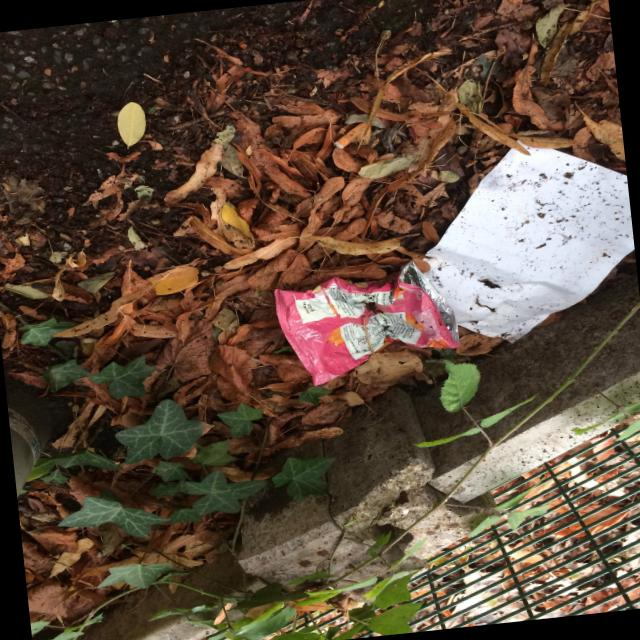less trash: (275, 263, 458, 385)
